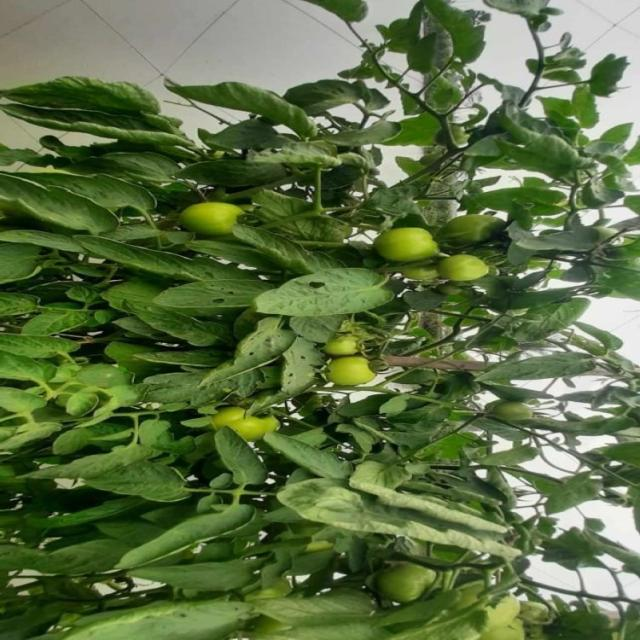tomato: (371, 557, 434, 618), (218, 406, 302, 450), (368, 223, 447, 267), (174, 196, 249, 242), (317, 350, 386, 398), (442, 249, 498, 289), (449, 213, 521, 243), (488, 398, 543, 429), (325, 328, 361, 360)
